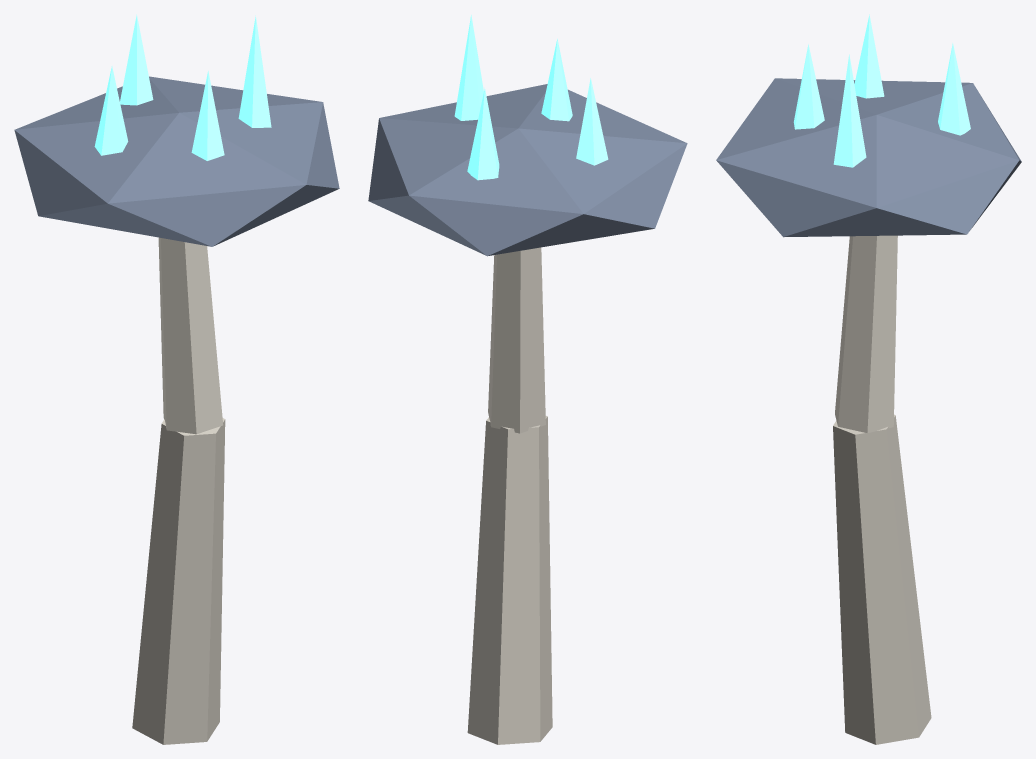
The model's file is arv_fungo_cristal_6_sem_textura.glb.
3 renders of one model, left to right at view 1: azimuth 30°, elevation 25°; view 2: azimuth 150°, elevation 25°; view 3: azimuth 270°, elevation 25°, orthographic. The views are drawn at different scales.
Parts seen in each view (by area): view 1: arv_fungo_cristal_6; view 2: arv_fungo_cristal_6; view 3: arv_fungo_cristal_6.
Part boxes in pixels (x1,y1,x2,y2): arv_fungo_cristal_6: (14, 14, 339, 744); arv_fungo_cristal_6: (368, 15, 687, 744); arv_fungo_cristal_6: (716, 14, 1021, 744).
Size of the model in its own units: 0.8019 by 1.92 by 0.7554.
